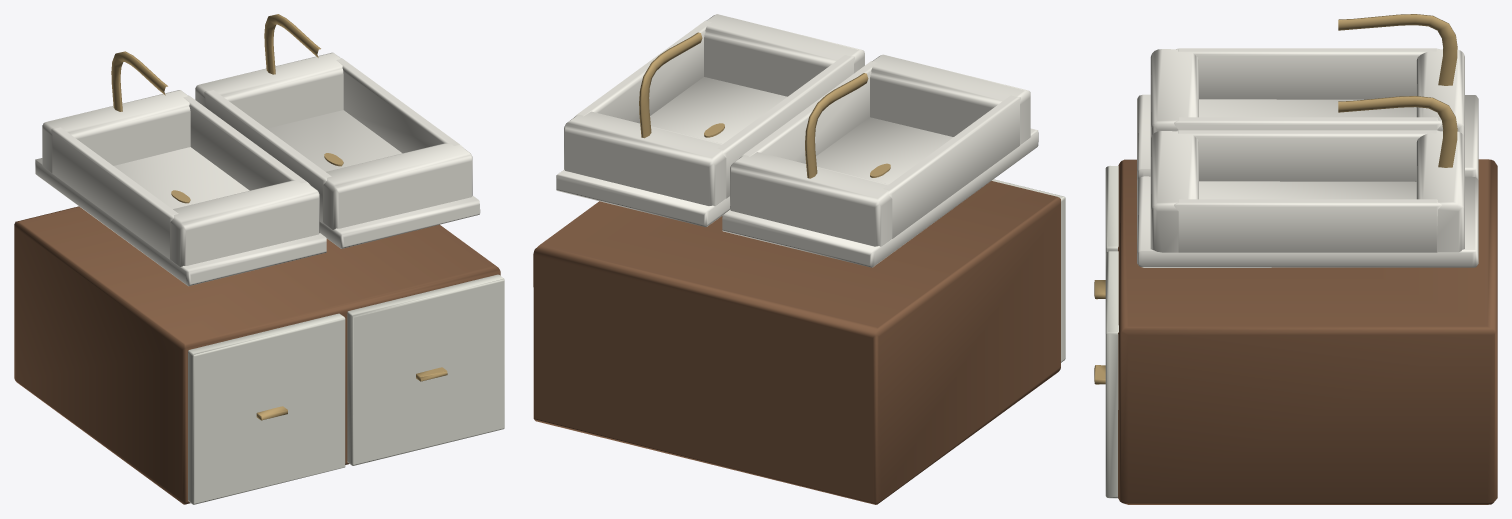
File: sink-13-1.lod.glb
The picture shows the model from 3 angles, left to right: view 1: azimuth 30°, elevation 25°; view 2: azimuth 150°, elevation 25°; view 3: azimuth 270°, elevation 25°; orthographic projection. The views are drawn at different scales.
Visible parts, largest first — view 1: upholstery (×4); view 2: upholstery (×4); view 3: upholstery (×4).
Boxes of the visible parts, left/top/right/bottom form: upholstery (×4): left=14, top=14, right=504, bottom=504; upholstery (×4): left=533, top=14, right=1065, bottom=504; upholstery (×4): left=1094, top=14, right=1497, bottom=504.
Size of the model in its own units: 1 by 1 by 1.
